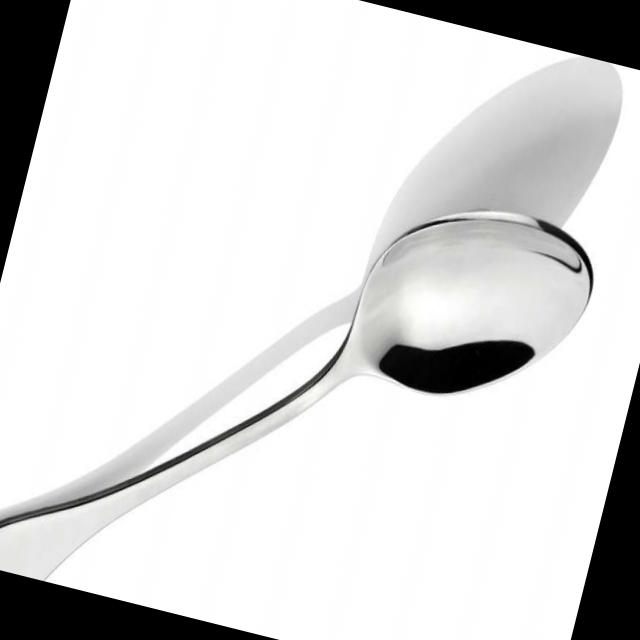spoon: (0, 79, 625, 640)
